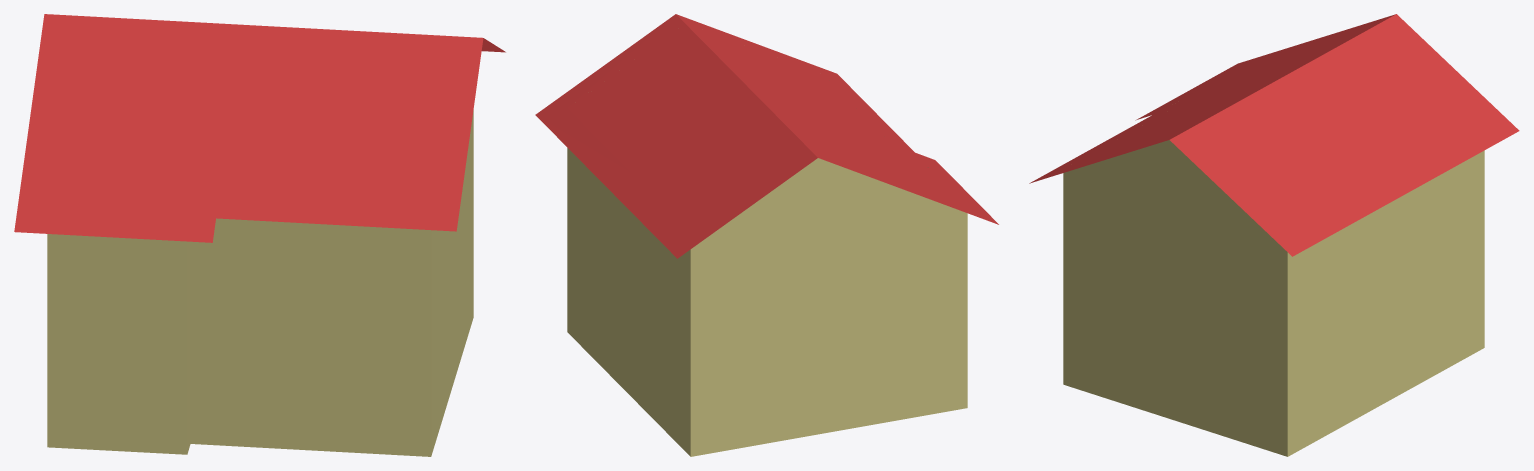
The picture shows the model from 3 angles, left to right: view 1: azimuth 30°, elevation 25°; view 2: azimuth 150°, elevation 25°; view 3: azimuth 270°, elevation 25°; orthographic projection. The views are drawn at different scales.
Visible parts, largest first — view 1: group_5, group_3, group_4; view 2: group_5, group_3, group_4; view 3: group_5, group_3, group_4.
Part boxes in pixels (box(x1,y1,x2,y2)): group_5: box(47, 110, 473, 456); group_3: box(14, 14, 505, 242); group_4: box(109, 36, 495, 242); group_5: box(567, 148, 967, 456); group_3: box(535, 15, 998, 258); group_4: box(535, 14, 947, 186); group_5: box(1063, 140, 1484, 456); group_3: box(1064, 14, 1519, 256); group_4: box(1029, 14, 1402, 256).
Size of the model in its own units: 15.41 by 14.76 by 9.68.
